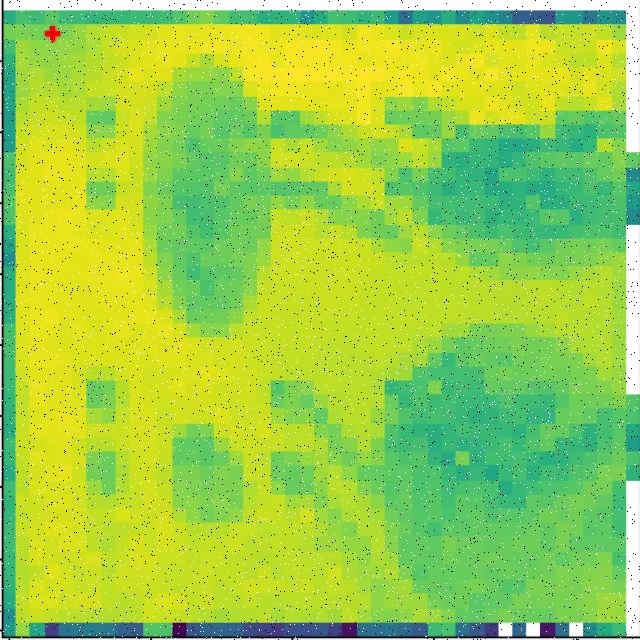Concrete: (165, 416, 249, 524)
Glass: (383, 342, 585, 528)
Metal: (143, 80, 267, 337)
Wood: (444, 125, 600, 246)
